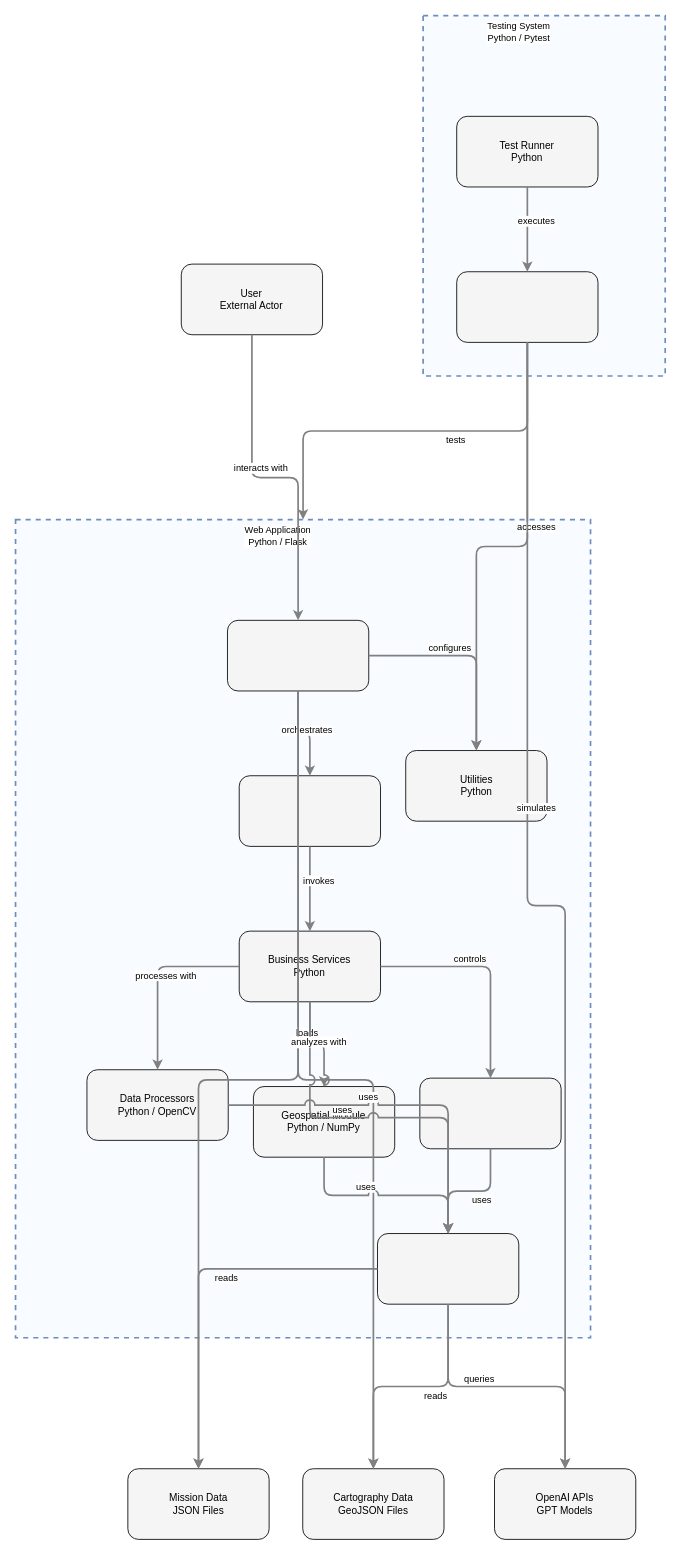
Some shapes in this 680 by 1554 pixel diagram are drawn without their labels. Here are the shapes that lost their labels. From the top down, the centre of each, then its label:
At (527,306): "Test Suite Python / Pytest".
At (298,655): "Main Application Python / Flask".
At (309,810): "API Controllers Python / Flask".
At (490,1113): "Drone Control Module Python".
At (448,1268): "Domain Models & Logic Python".
